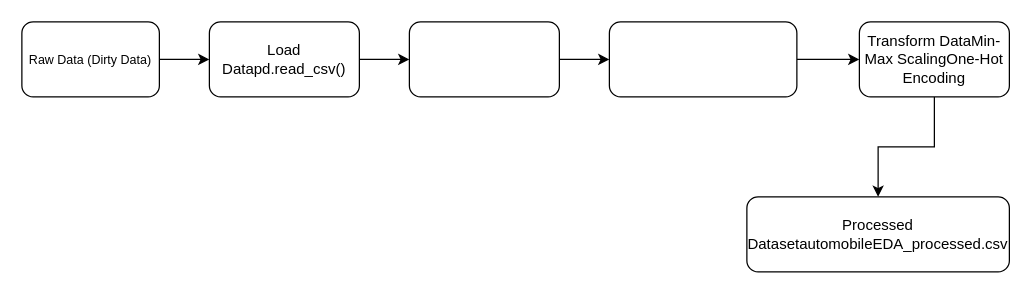
Some shapes in this 1031 by 294 pixel diagram are drawn without their labels. Each missing label, with the centre of its shape:
"Clean Dataremove duplicates, normalizetext,parse dates, handle missingvalues" belongs at (702,59).
"Inspect Datashape, dtype, missing,duplicate, category" belongs at (483,59).
